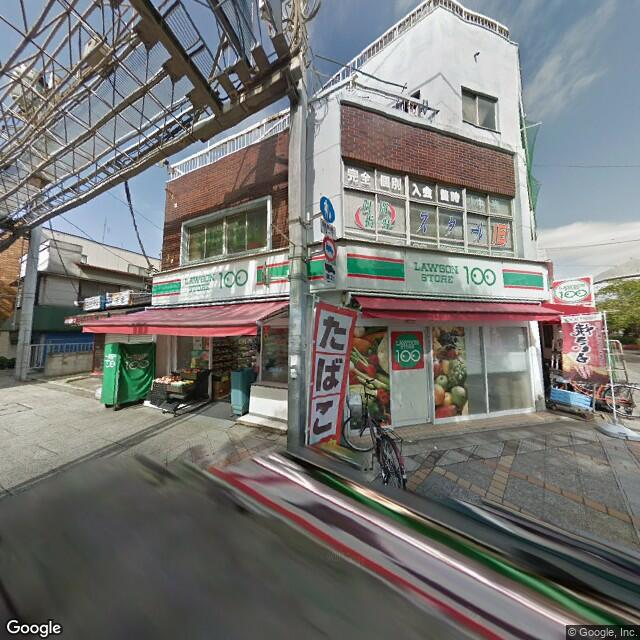lawson: (152, 245, 548, 305), (389, 331, 421, 371), (554, 276, 592, 305)
